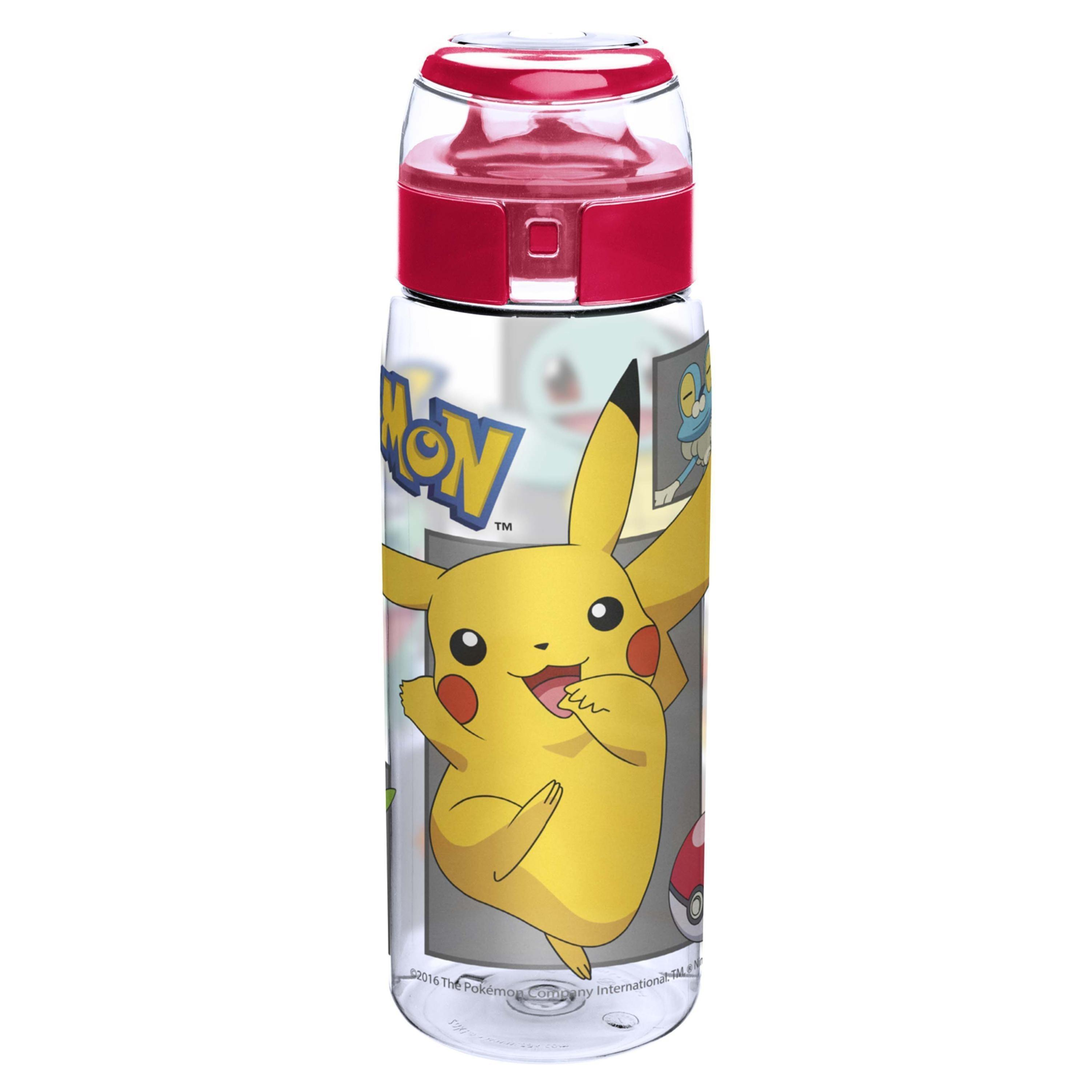gym bottle: (372, 10, 720, 1077)
